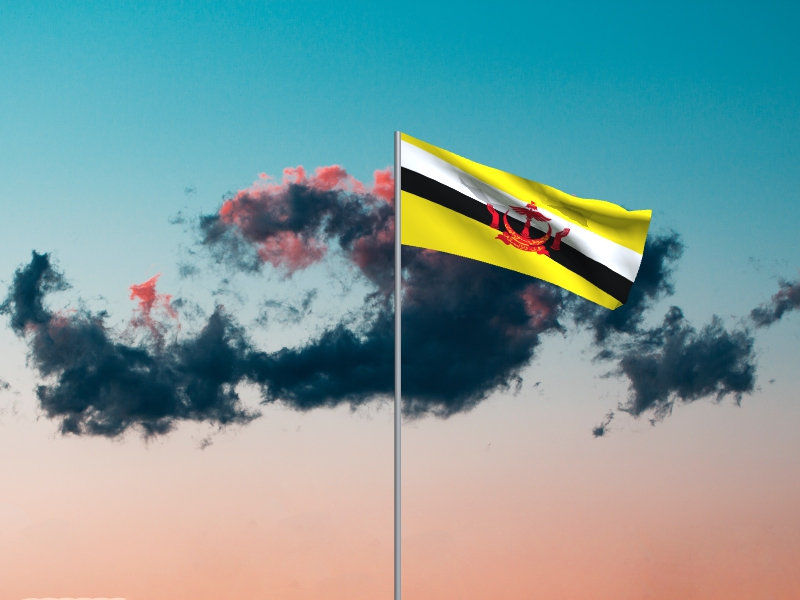bn: (401, 133, 654, 312)
